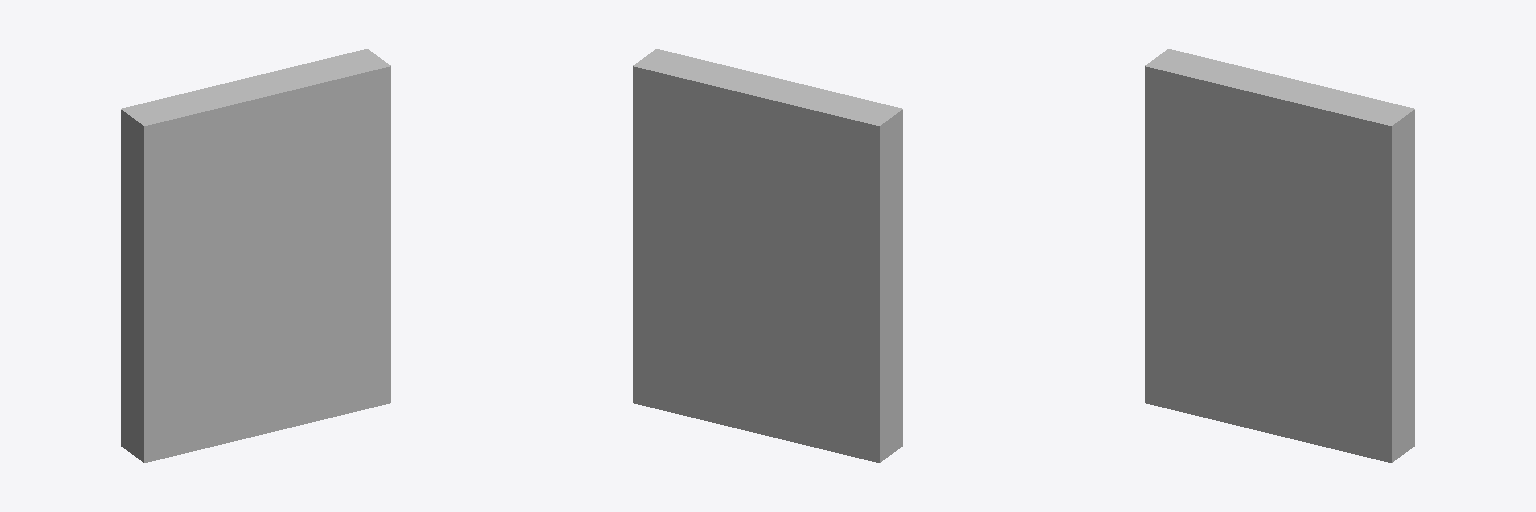
The model's file is boxtape_noreflx.obj.
The picture shows the model from 3 angles: view 1: azimuth 30°, elevation 25°; view 2: azimuth 150°, elevation 25°; view 3: azimuth 330°, elevation 25°; orthographic projection.
Visible parts, largest first — view 1: boxtape_noreflx_boxgb_box.009; view 2: boxtape_noreflx_boxgb_box.009; view 3: boxtape_noreflx_boxgb_box.009.
Boxes of the visible parts, box(x1,y1,x2,y2) form: boxtape_noreflx_boxgb_box.009: box(121, 49, 390, 462); boxtape_noreflx_boxgb_box.009: box(633, 49, 902, 462); boxtape_noreflx_boxgb_box.009: box(1145, 49, 1414, 462).
Size of the model in its own units: 1.19 by 1.55 by 0.1988.